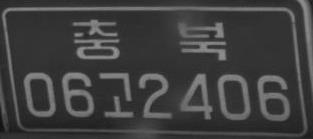0: (216, 73, 251, 120), (23, 71, 56, 117)
2: (138, 72, 173, 119)
4: (180, 72, 212, 119)
6: (257, 73, 290, 121), (61, 71, 94, 117)
고: (99, 71, 134, 118)
충북_D: (71, 18, 227, 59)
